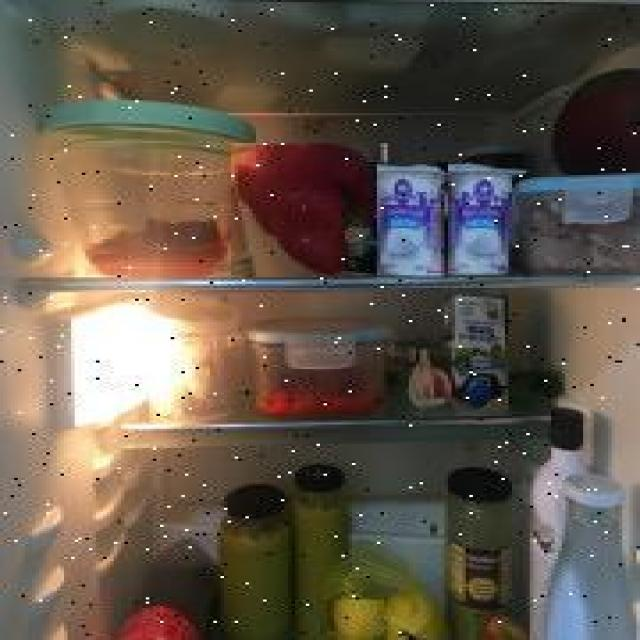bell_pepper: (231, 143, 388, 277)
garlic: (409, 348, 451, 414)
heavy_cream: (446, 294, 510, 410)
lemon: (329, 599, 386, 640)
mango: (554, 67, 640, 171)
yogurt: (378, 162, 449, 280), (452, 164, 516, 275)
